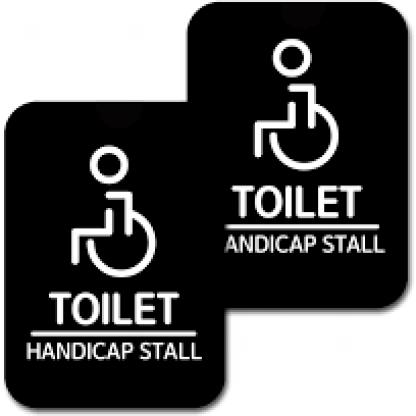toilet: (54, 142, 168, 283)
